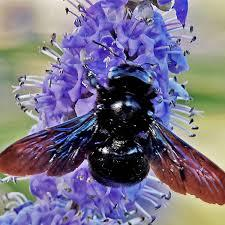Xylocopa: (2, 54, 225, 206)
